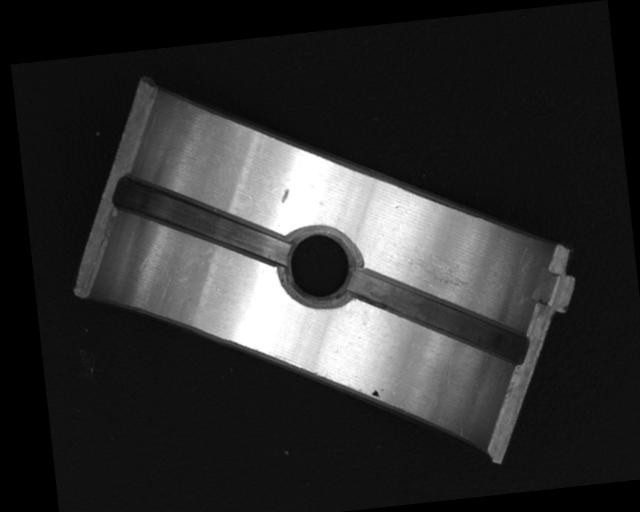blot: (370, 388, 382, 400)
bruise: (278, 187, 290, 204)
gap: (111, 158, 290, 281), (350, 252, 527, 375)
hole: (279, 219, 361, 310)
scratch: (403, 237, 483, 315)
